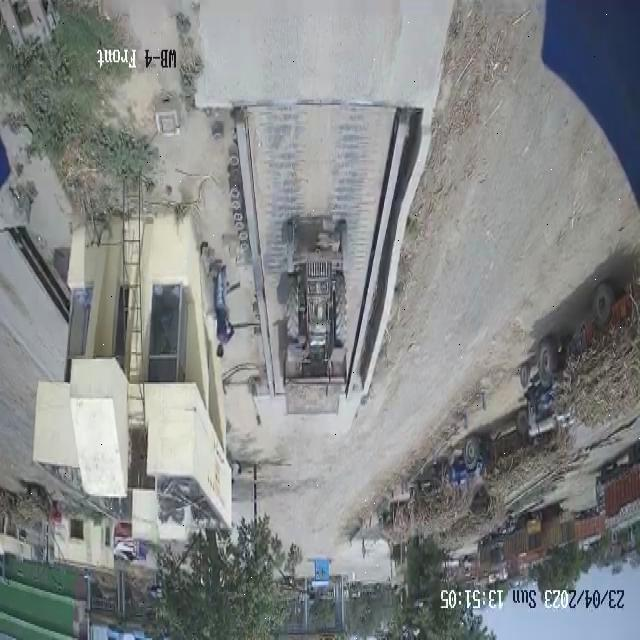Tratores - v5 YOLO V8L 2024-11-13: (276, 217, 350, 366), (520, 346, 566, 432), (434, 442, 488, 504)
